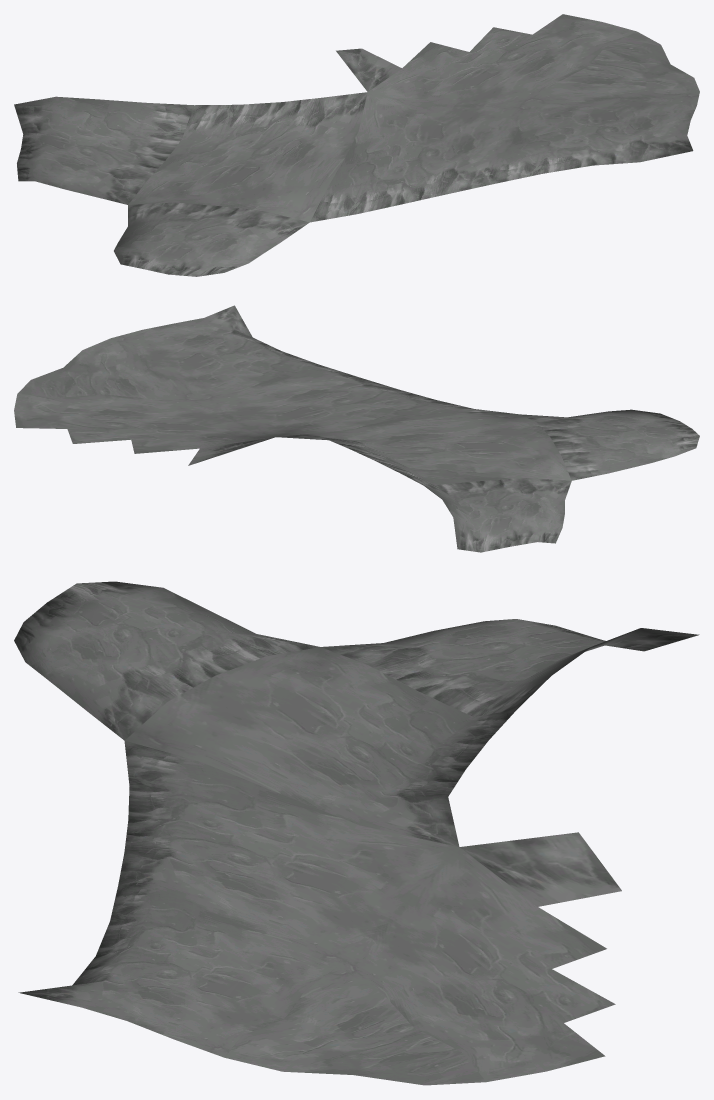
Rendered from SWORDLIGHT20_PS-AREA03_146.fbx.
3 views of the same model, one above another, from view 1: azimuth 30°, elevation 25°; view 2: azimuth 150°, elevation 25°; view 3: azimuth 270°, elevation 25° (orthographic). The views are drawn at different scales.
Parts seen in each view (by area): view 1: SWORDLIGHT20_PS-AREA03_146; view 2: SWORDLIGHT20_PS-AREA03_146; view 3: SWORDLIGHT20_PS-AREA03_146.
Boxes of the visible parts, <box> form: SWORDLIGHT20_PS-AREA03_146: <box>14,14,699,276</box>; SWORDLIGHT20_PS-AREA03_146: <box>14,305,699,552</box>; SWORDLIGHT20_PS-AREA03_146: <box>14,581,699,1085</box>.
Bounding box in the file's own units: 218829 × 13105 × 129160.
3 materials, 3 textured.
